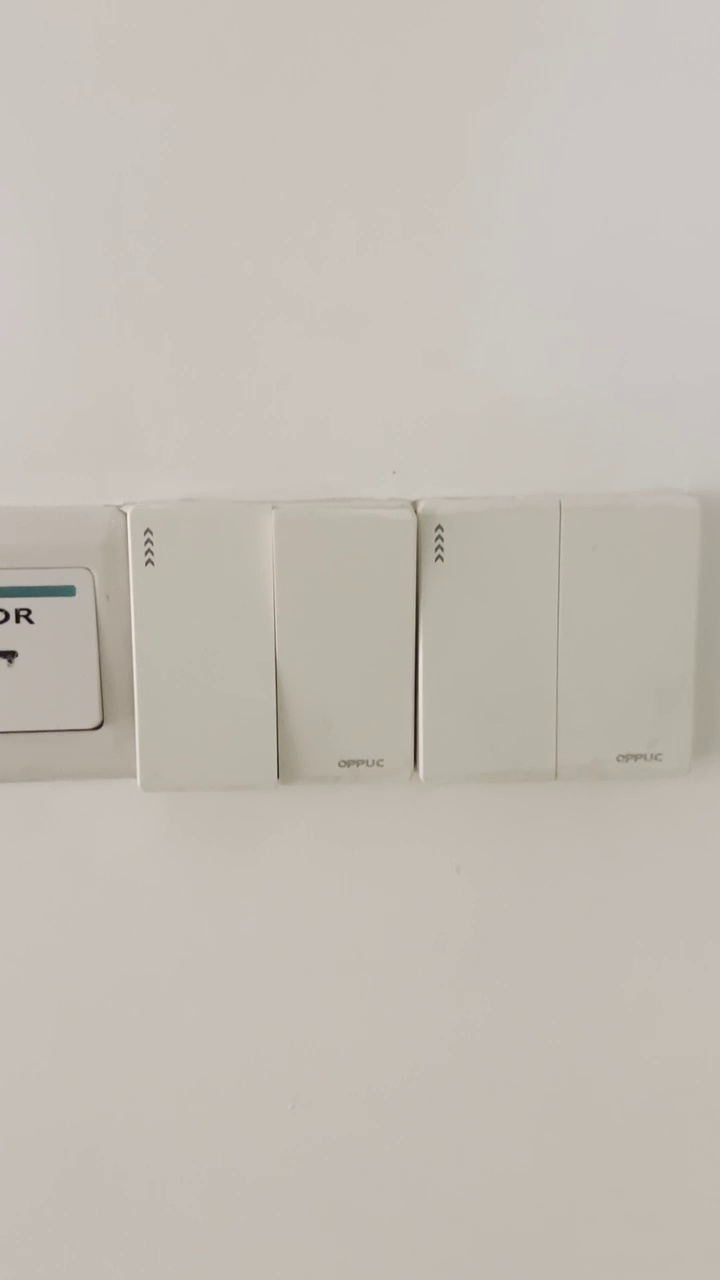button1: (130, 506, 273, 779), (280, 512, 409, 781), (426, 506, 551, 777), (568, 506, 693, 772)
